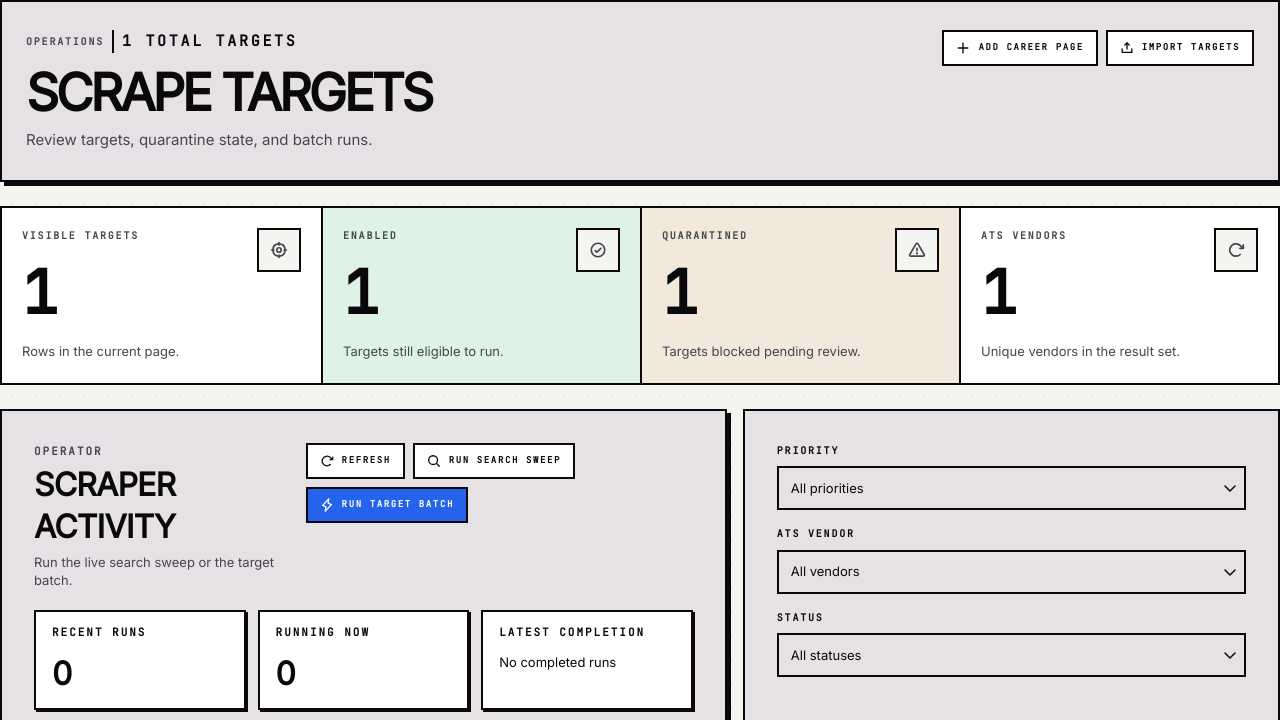
Targets page › rejects invalid career-page urls in the operator modal
Click the button "Add Career Page" at {"x": 1020, "y": 48}, box [942,30,1098,66]
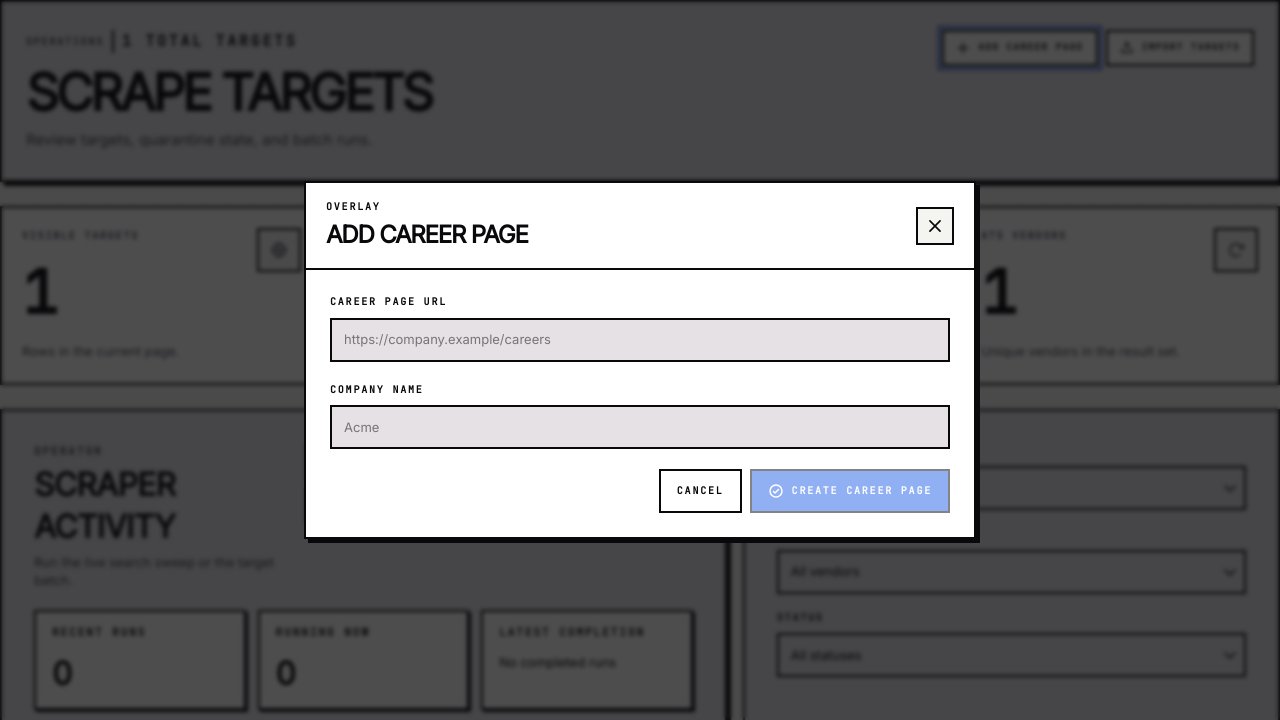
Type "javascript:alert(1)" into the field labelled "Career page URL" at {"x": 640, "y": 340}, box [330,318,950,362]
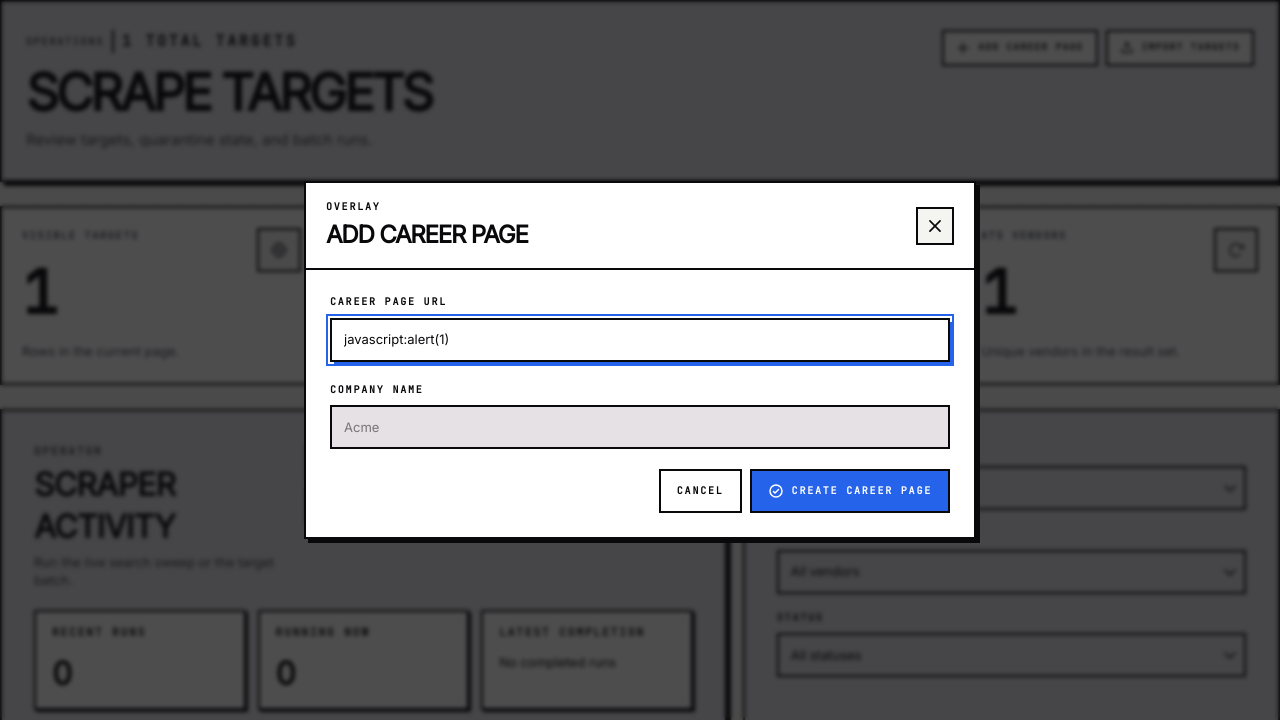
Click the button "Create career page" at {"x": 850, "y": 491}, box [750,469,950,513]
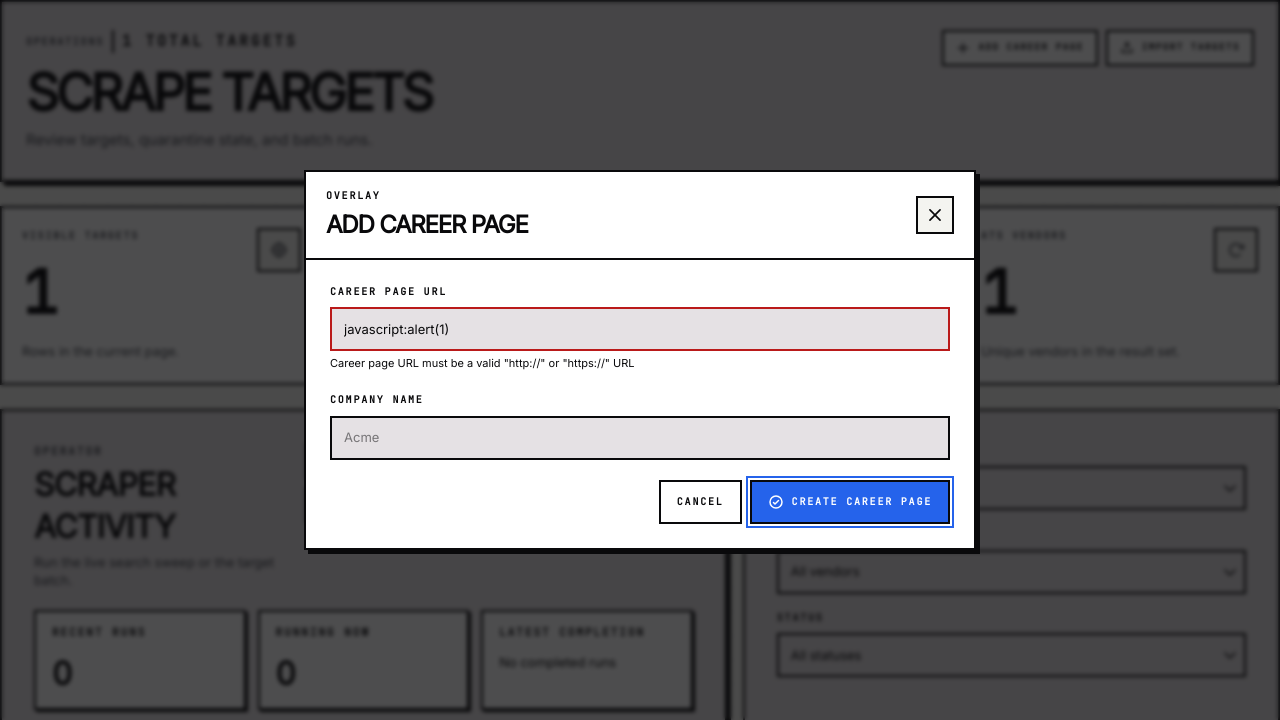
Now the text "Career page URL must be a valid \"http://\" or \"https://\" URL" is shown, box [330,356,635,370]
